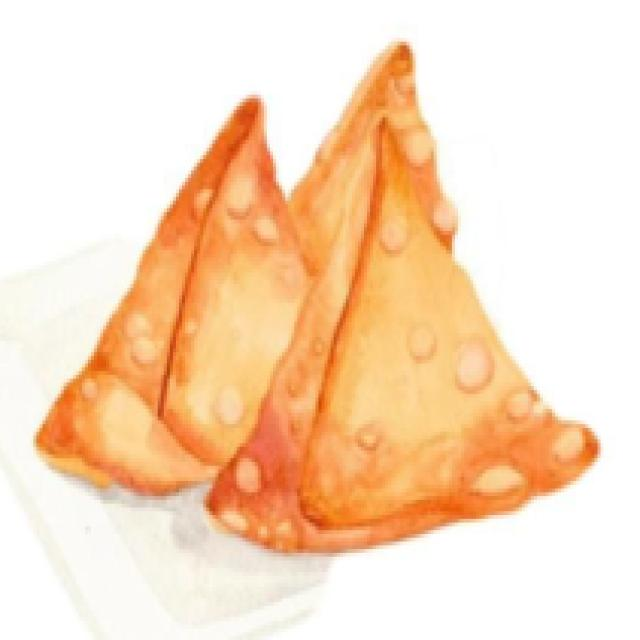Samboosa: (25, 40, 640, 580)
